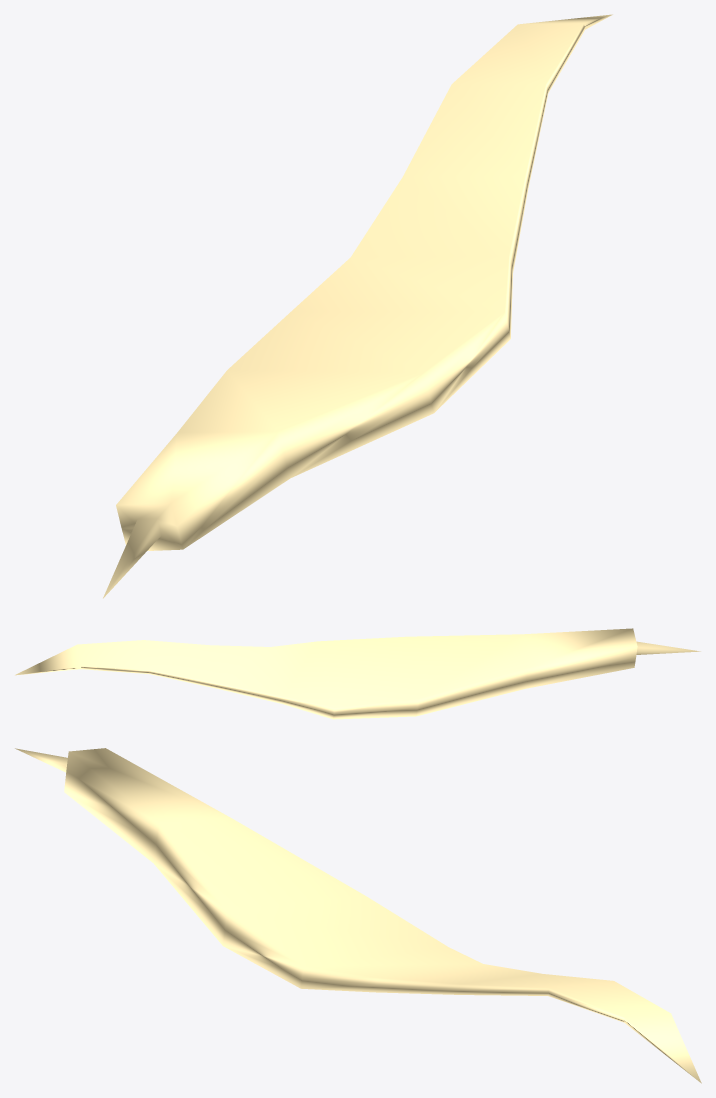
The model's file is QuillAndInk.001.glb.
The picture shows the model from 3 angles, top to bottom: view 1: azimuth 30°, elevation 25°; view 2: azimuth 150°, elevation 25°; view 3: azimuth 270°, elevation 25°; orthographic projection. The views are drawn at different scales.
Parts seen in each view (by area): view 1: QuillAndInk.001; view 2: QuillAndInk.001; view 3: QuillAndInk.001.
Part boxes in pixels (x1,y1,x2,y2): QuillAndInk.001: (103, 14, 612, 598); QuillAndInk.001: (15, 628, 700, 719); QuillAndInk.001: (15, 748, 701, 1083).
Bounding box in the file's own units: 0.252 × 0.0356 × 0.2.
Materials: 1 (1 with a texture image).
